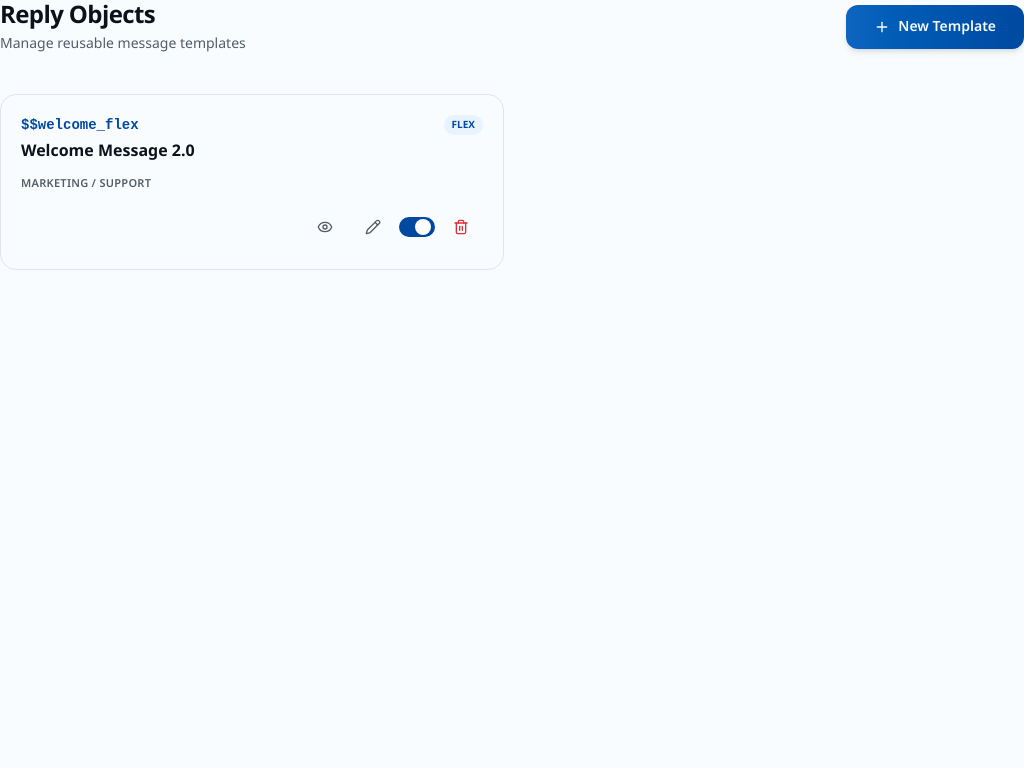
Scenario: ReplyObjectsClient กริด JSK › handleDelete คืน error → ปิด ConfirmDialog และ banner แสดง error
The width and height of the screenshot is (1024, 768).
Expected: the text "$$welcome_flex" is shown, [21, 117, 139, 133]
Click the button named "ลบ welcome_flex": (461, 227) [439, 205, 483, 249]
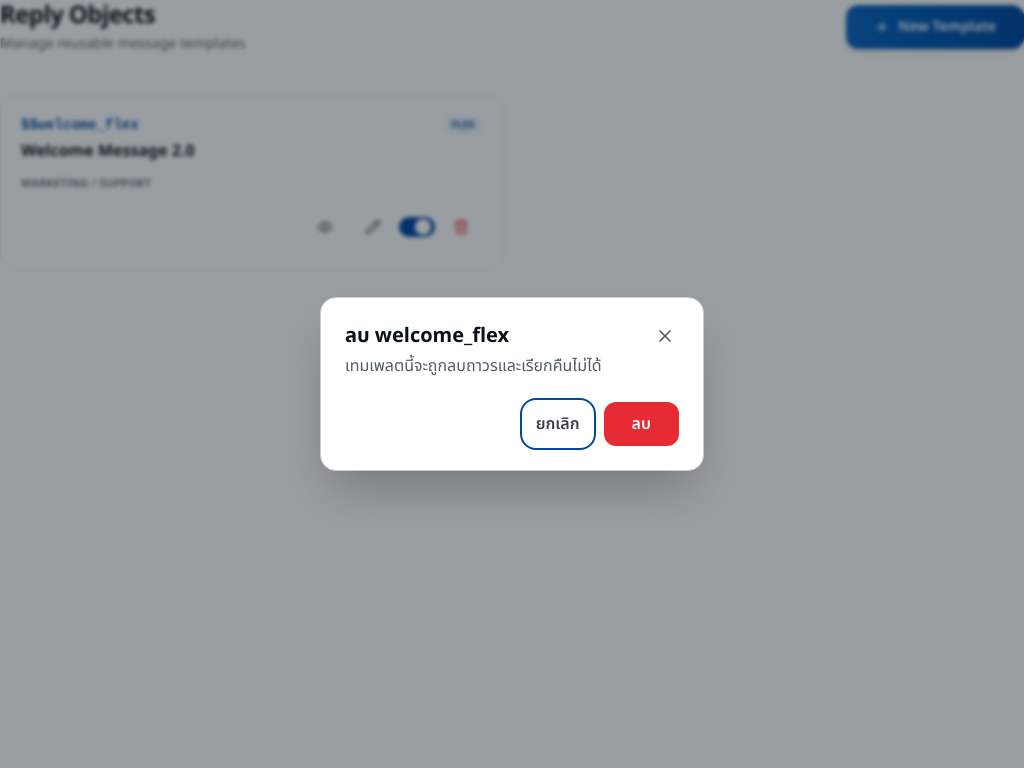
Expected: the text "เทมเพลตนี้จะถูกลบถาวรและเรียกคืนไม่ได้" is shown, [345, 354, 602, 378]
Click the button "ลบ": (641, 424) [604, 402, 679, 446]
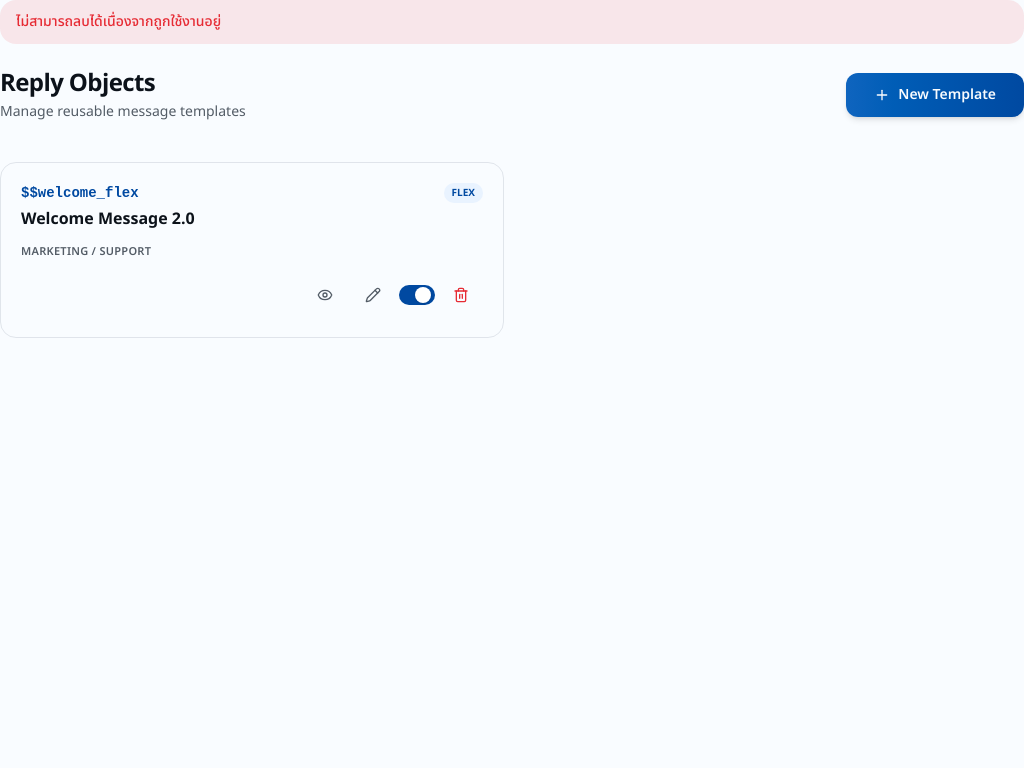
Expected: the text "เทมเพลตนี้จะถูกลบถาวรและเรียกคืนไม่ได้" is gone
Expected: the message reads "ไม่สามารถลบได้เนื่องจากถูกใช้งานอยู่", [16, 11, 221, 32]
